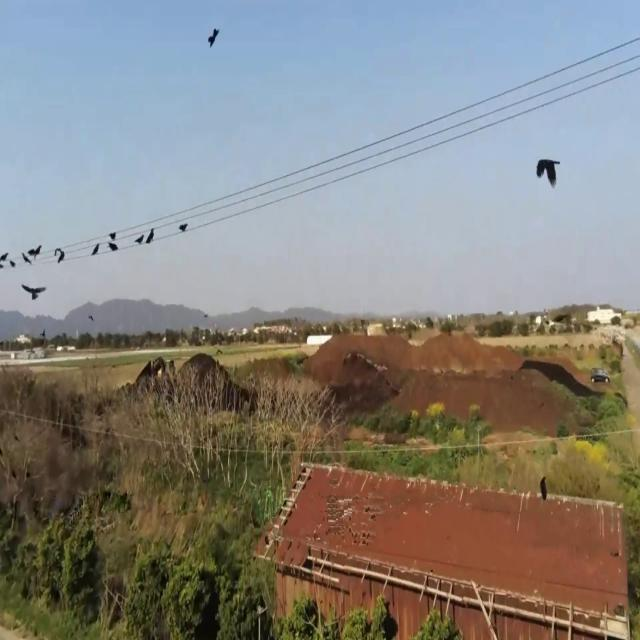bird: (536, 147, 559, 195), (21, 276, 46, 310), (22, 239, 42, 269), (208, 20, 219, 54), (107, 228, 118, 255), (145, 224, 155, 248), (56, 244, 66, 266), (540, 472, 547, 502), (179, 216, 188, 237), (92, 238, 100, 260)
